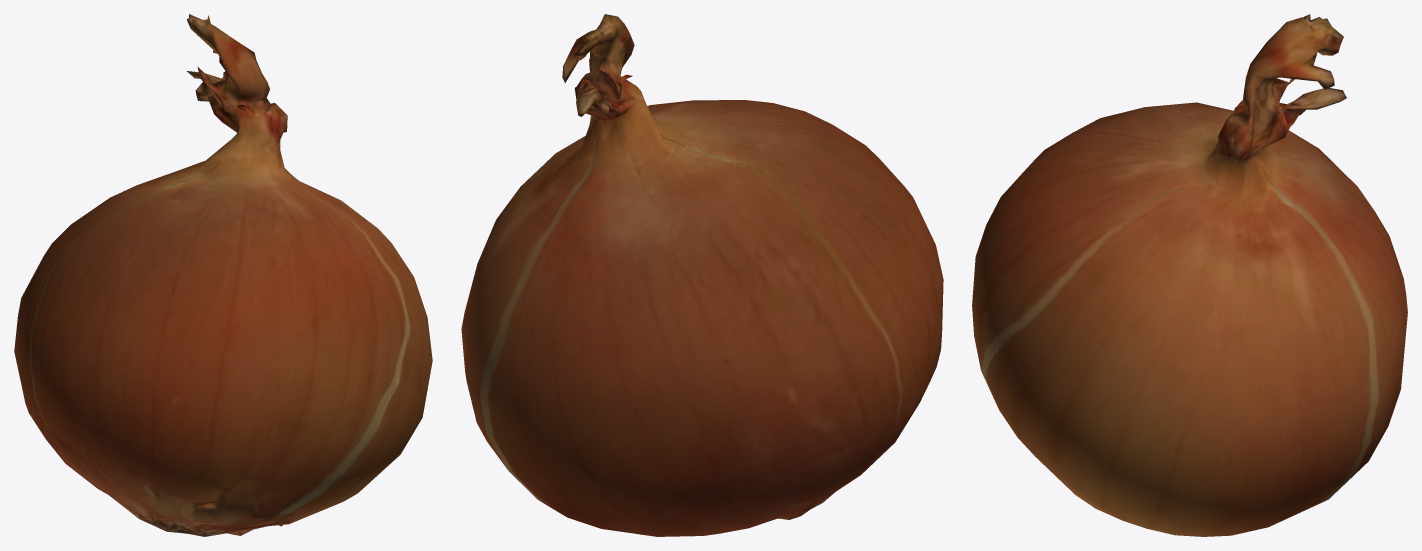
Rendered from yellow_onion.glb.
The picture shows the model from 3 angles, left to right: view 1: azimuth 30°, elevation 25°; view 2: azimuth 150°, elevation 25°; view 3: azimuth 270°, elevation 25°; orthographic projection. The views are drawn at different scales.
Visible parts, largest first — view 1: yellow_onion; view 2: yellow_onion; view 3: yellow_onion.
Boxes of the visible parts, x1=… form: yellow_onion: x1=14, y1=14, x2=432, y2=536; yellow_onion: x1=461, y1=14, x2=943, y2=536; yellow_onion: x1=972, y1=14, x2=1407, y2=536.
Bounding box in the file's own units: 0.0724 × 0.0864 × 0.0685.
Materials: 1 (1 with a texture image).
